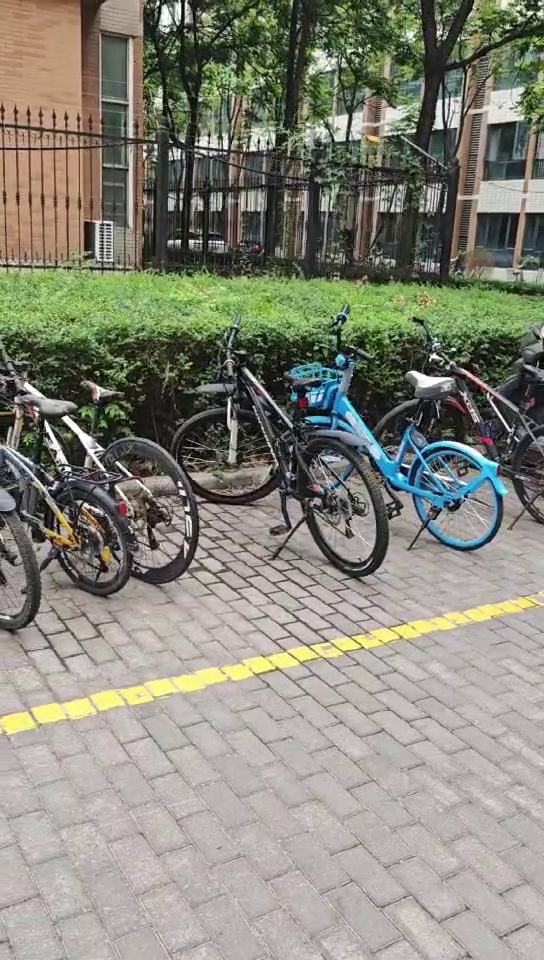others: (168, 319, 386, 573), (2, 328, 186, 601), (5, 383, 133, 620)
shared_bike_haluo: (295, 305, 505, 565)
